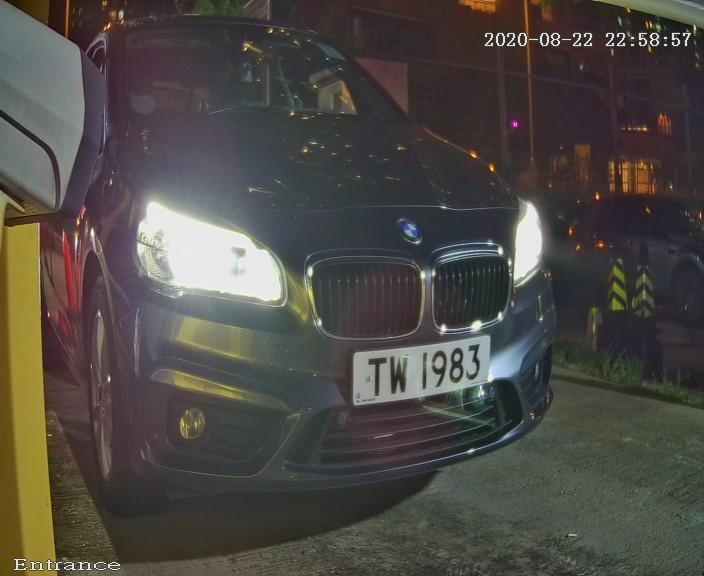Car: (29, 13, 607, 523)
License Plate: (326, 315, 510, 424)
